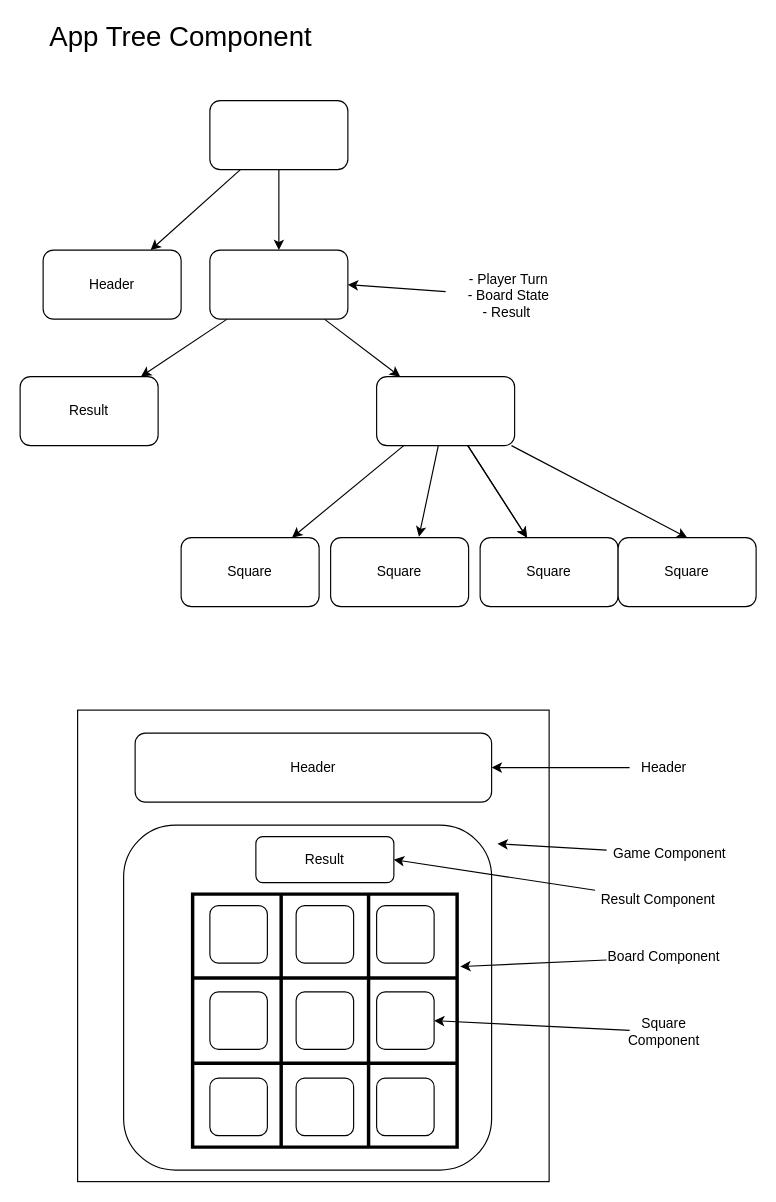
The diagram is 776 pixels wide and 1202 high, and some of its shapes have lost their labels. The box of each missing label's shape, as (x1, y1, x2, y2) in pixels:
App: (209, 99, 348, 170)
Board: (375, 375, 515, 446)
Game: (209, 249, 348, 319)
